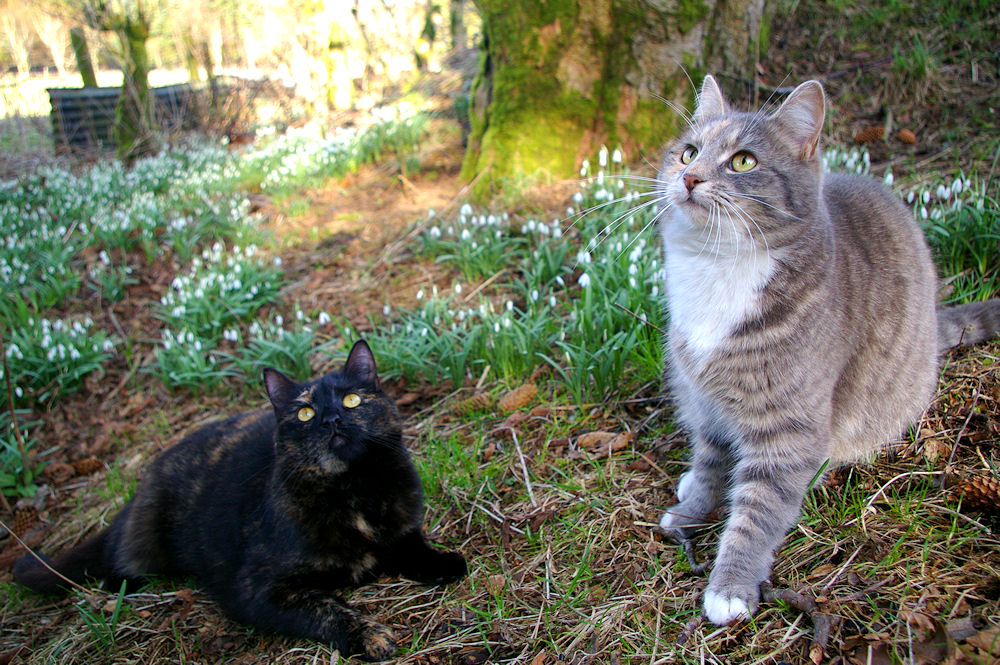cat: (563, 61, 999, 626), (15, 334, 464, 661)
